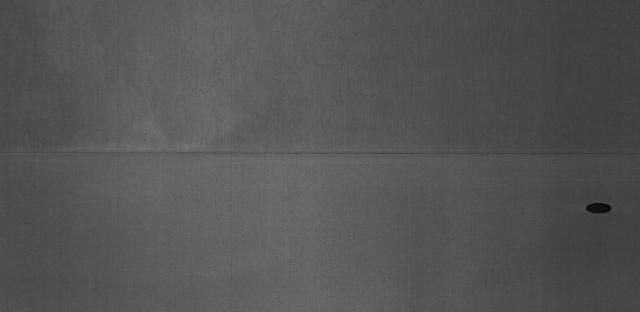punching_hole: (582, 198, 615, 218)
welding_line: (10, 141, 636, 164)
